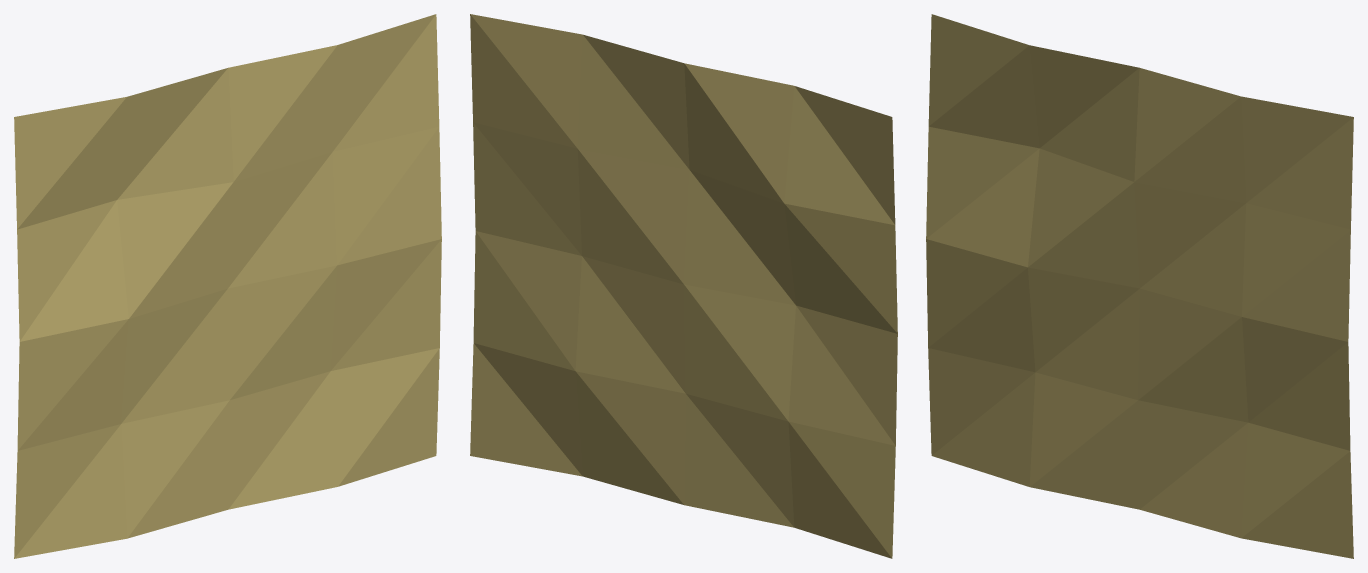
The model's file is Sand.obj.
3 views of the same model, side by side, from view 1: azimuth 30°, elevation 25°; view 2: azimuth 150°, elevation 25°; view 3: azimuth 330°, elevation 25° (orthographic).
Parts seen in each view (by area): view 1: Sand; view 2: Sand; view 3: Sand.
Part boxes in pixels (x1,y1,x2,y2): Sand: (14,14,441,558); Sand: (470,14,897,558); Sand: (926,14,1353,558).
Bounding box in the file's own units: 1 × 1 × 0.0481.
